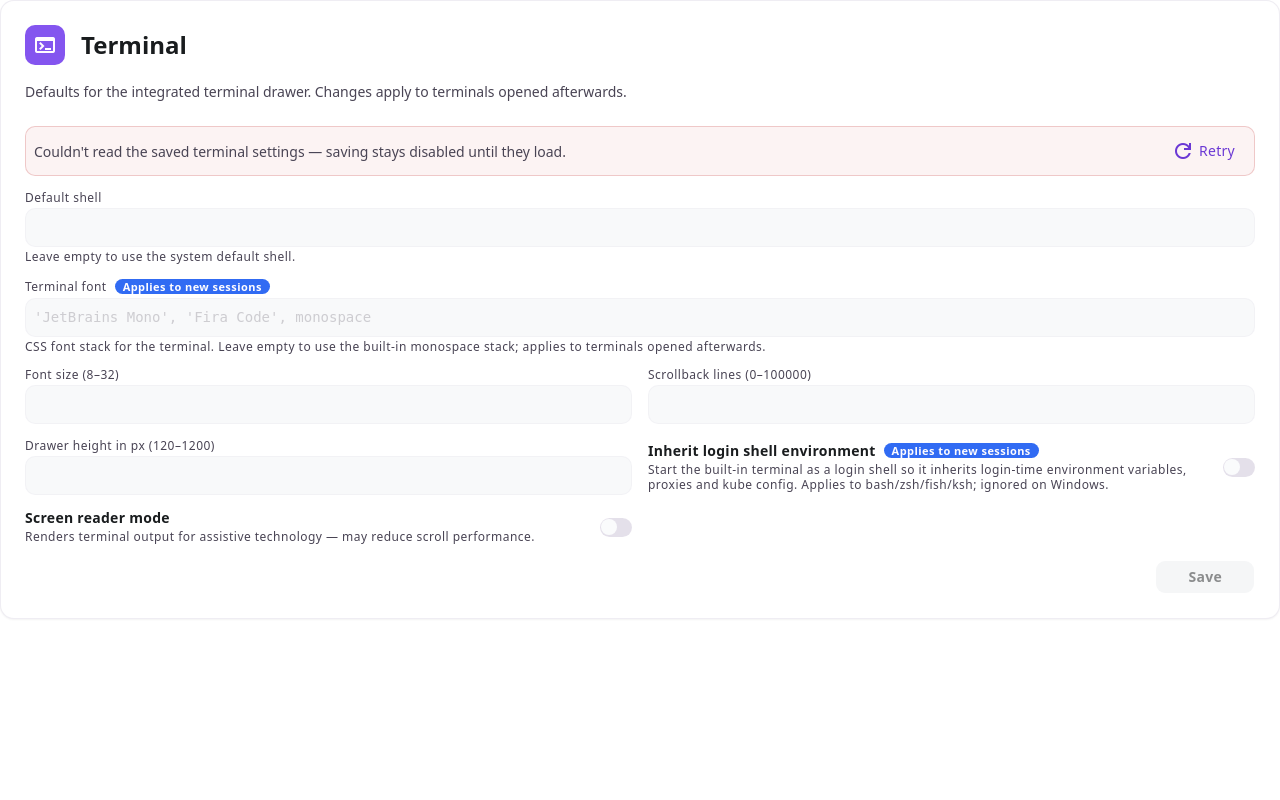
Test: TerminalSettings card (P3-1 load-failure safety + effective values) › recovers through Retry: a successful retry loads values and re-enables Save
Expected: the message is shown, top-left (25, 126), bottom-right (1255, 176)
Expected: the button with aria-label "Save terminal settings" is disabled, top-left (1156, 560), bottom-right (1255, 594)
What coordinates should you click on to do the following:
click the button "Retry"
I would click on:
 (1203, 151)
Its box is top-left (1160, 135), bottom-right (1246, 167).
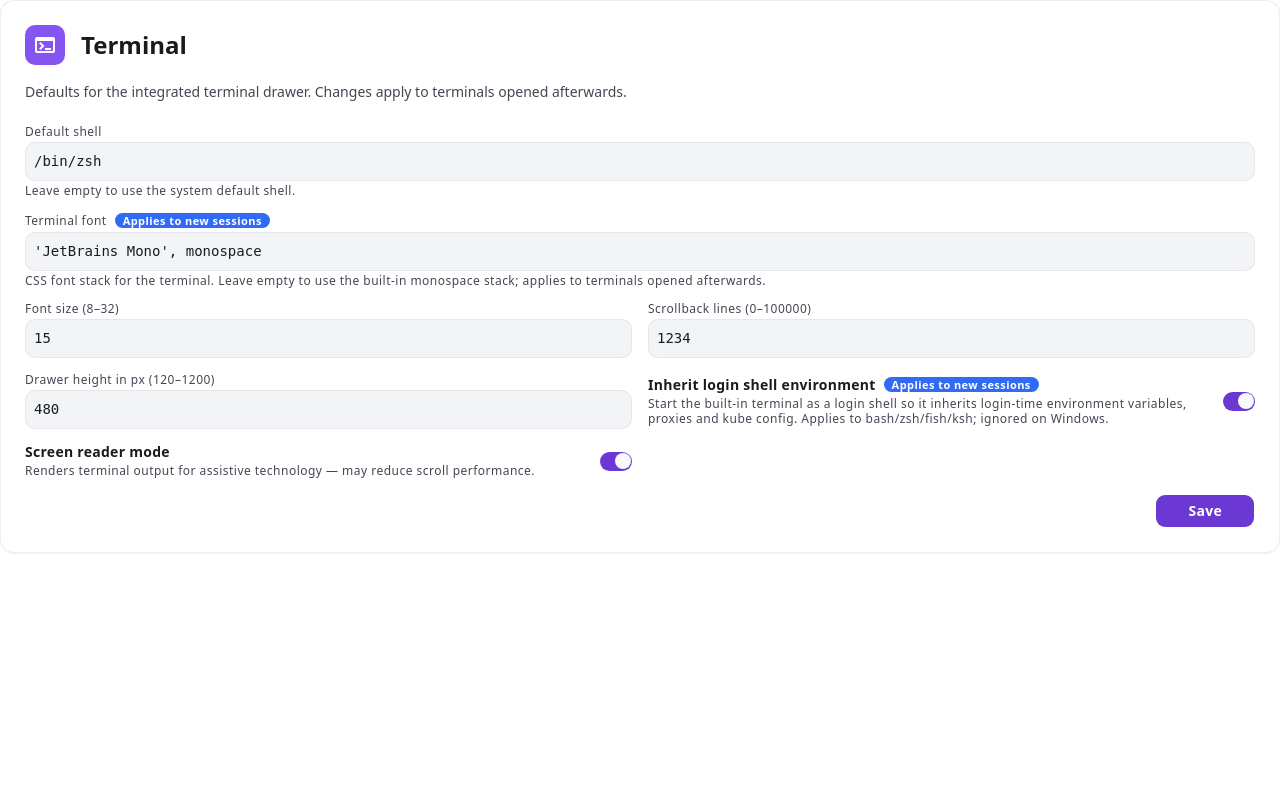
Expected: the number field showing "1234" is shown, top-left (648, 319), bottom-right (1255, 358)
Expected: the message is gone
Expected: the button with aria-label "Save terminal settings" is enabled, top-left (1156, 494), bottom-right (1255, 528)
